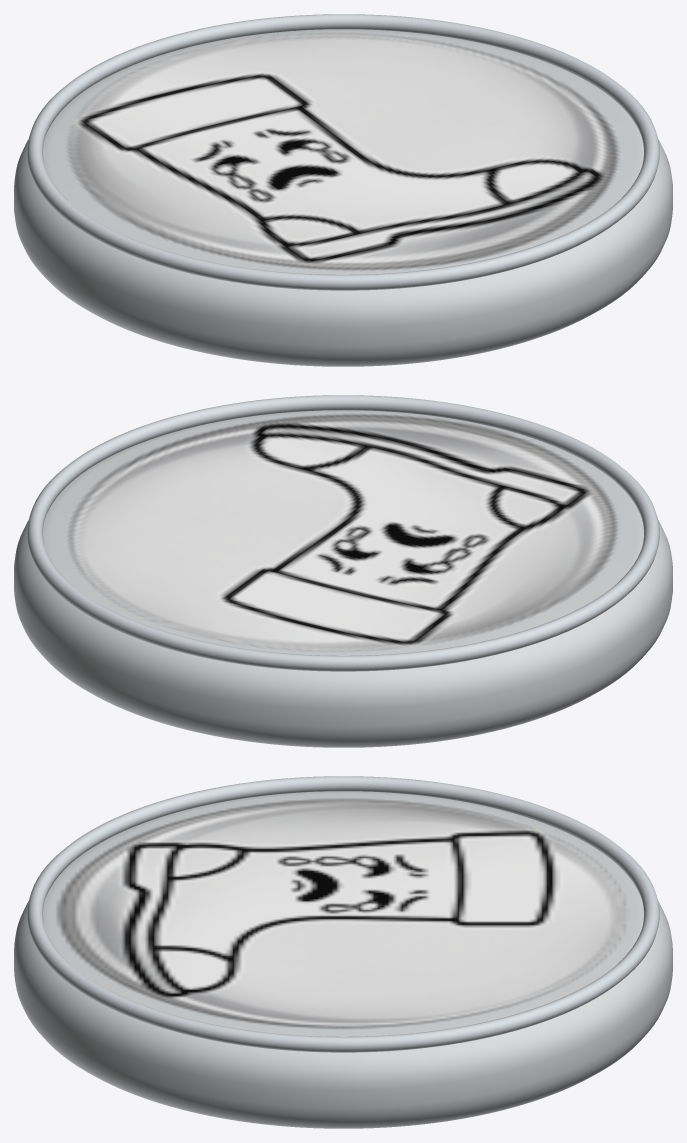
Rendered from ESCAPE_WILL-white.glb.
The picture shows the model from 3 angles, top to bottom: view 1: azimuth 30°, elevation 25°; view 2: azimuth 150°, elevation 25°; view 3: azimuth 270°, elevation 25°; orthographic projection.
Visible parts, largest first — view 1: ESCAPE_WILL_White_Artwork, ESCAPE_WILL_White_Body, ESCAPE_WILL_White_Front_Rim; view 2: ESCAPE_WILL_White_Artwork, ESCAPE_WILL_White_Body, ESCAPE_WILL_White_Front_Rim; view 3: ESCAPE_WILL_White_Artwork, ESCAPE_WILL_White_Body, ESCAPE_WILL_White_Front_Rim.
Boxes of the visible parts, x1,y1,x2,y2 form: ESCAPE_WILL_White_Artwork: (67,33,618,270); ESCAPE_WILL_White_Body: (14,29,672,366); ESCAPE_WILL_White_Front_Rim: (27,14,659,290); ESCAPE_WILL_White_Artwork: (68,414,617,651); ESCAPE_WILL_White_Body: (14,410,672,747); ESCAPE_WILL_White_Front_Rim: (27,395,659,671); ESCAPE_WILL_White_Artwork: (57,798,626,1028); ESCAPE_WILL_White_Body: (14,791,672,1128); ESCAPE_WILL_White_Front_Rim: (27,776,659,1052).
Size of the model in its own units: 1 by 0.158 by 1.
3 materials, 1 textured.
